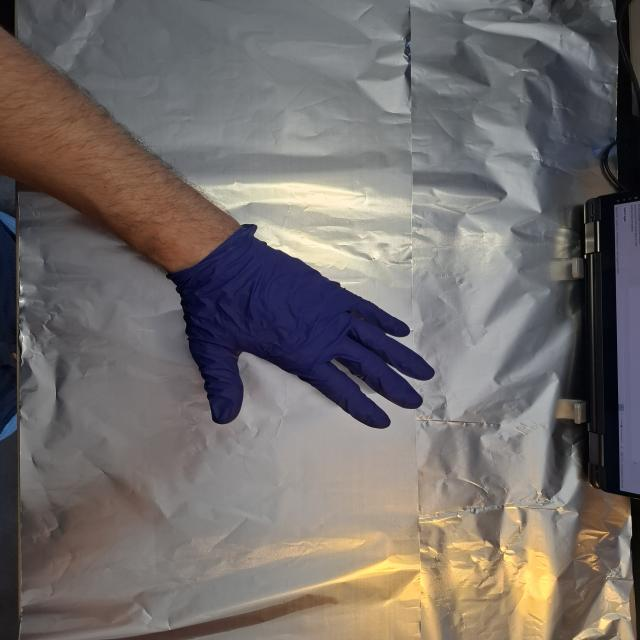glove_on: (172, 224, 440, 431)
